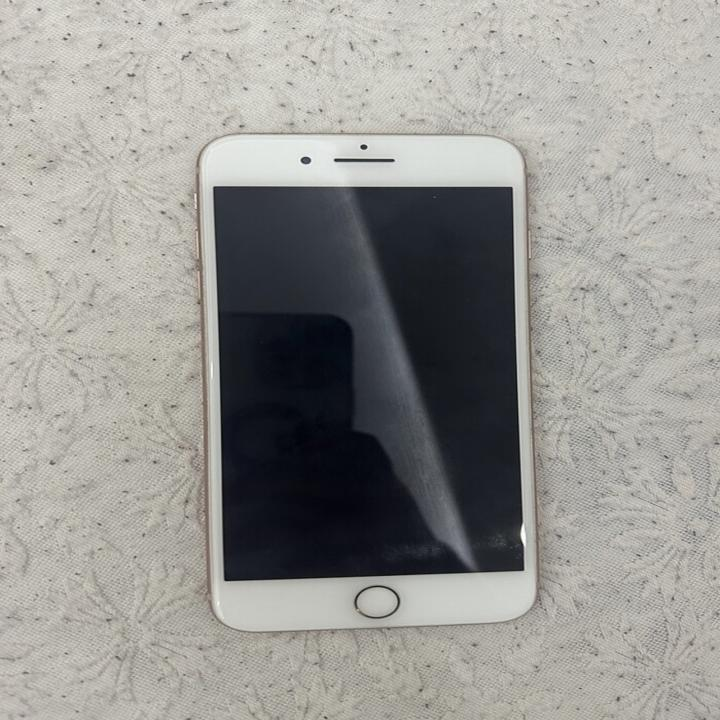phone good: (195, 132, 534, 641)
